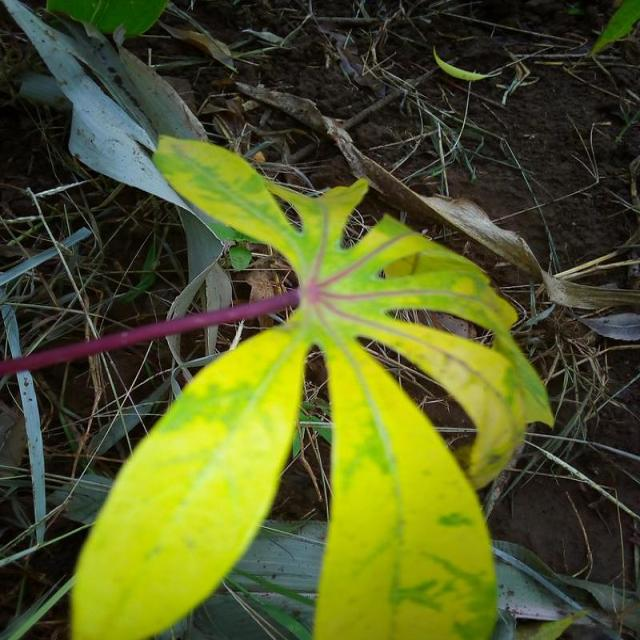cassava leaf: (67, 132, 554, 638), (68, 312, 310, 638)
